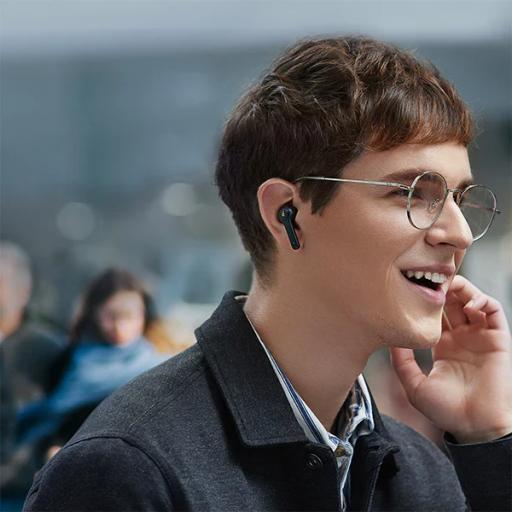earphone: (270, 198, 308, 259)
